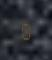zero: (19, 20, 31, 39)
